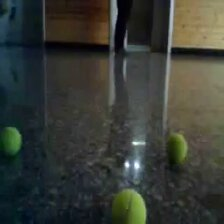tennis: (109, 188, 147, 224), (1, 125, 23, 158), (166, 133, 188, 166)
